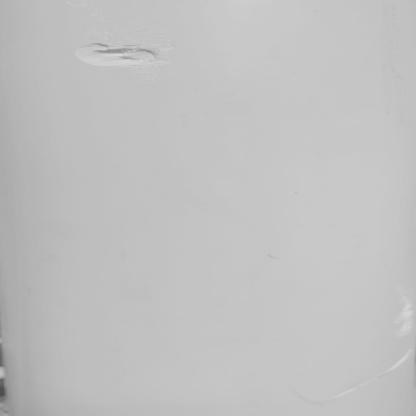sunshang: (311, 348, 415, 405), (75, 37, 173, 67), (397, 296, 416, 338)
